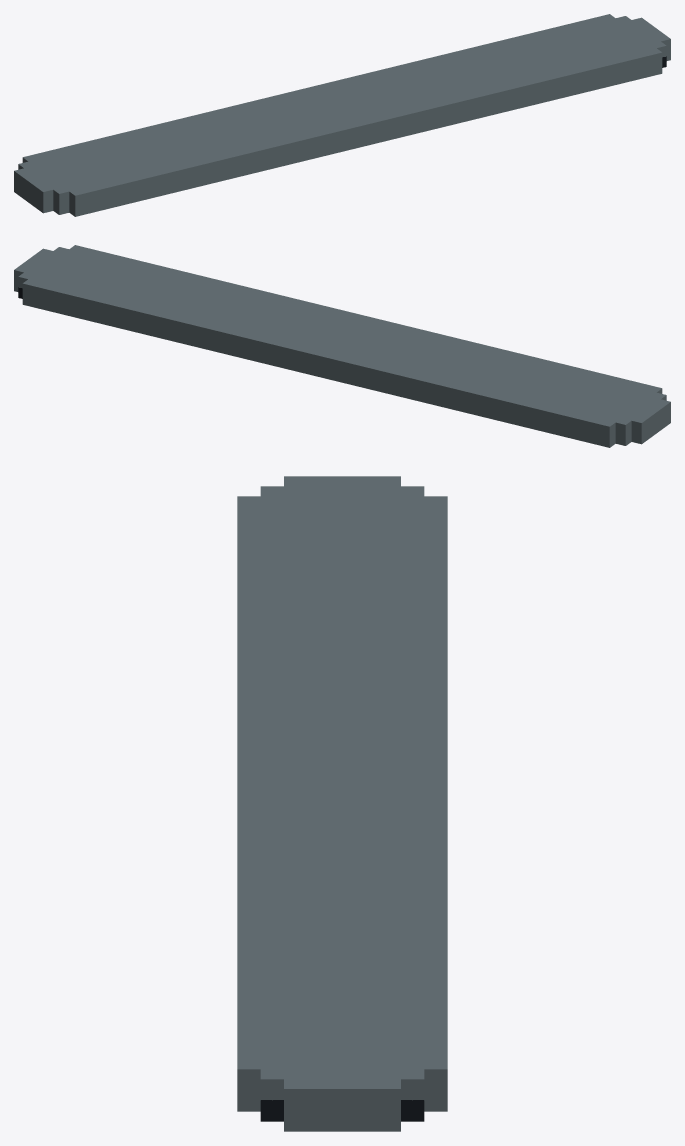
The model's file is lampy_10.dae.
3 renders of one model, top to bottom at view 1: azimuth 30°, elevation 25°; view 2: azimuth 150°, elevation 25°; view 3: azimuth 270°, elevation 25°, orthographic. The views are drawn at different scales.
Parts seen in each view (by area): view 1: Content; view 2: Content; view 3: Content.
Boxes of the visible parts, x1,y1,x2,y2 form: Content: (14, 14, 670, 216); Content: (14, 245, 670, 447); Content: (237, 476, 447, 1131).
Size of the model in its own units: 62 by 2 by 9.
Materials: 1 (1 with a texture image).
